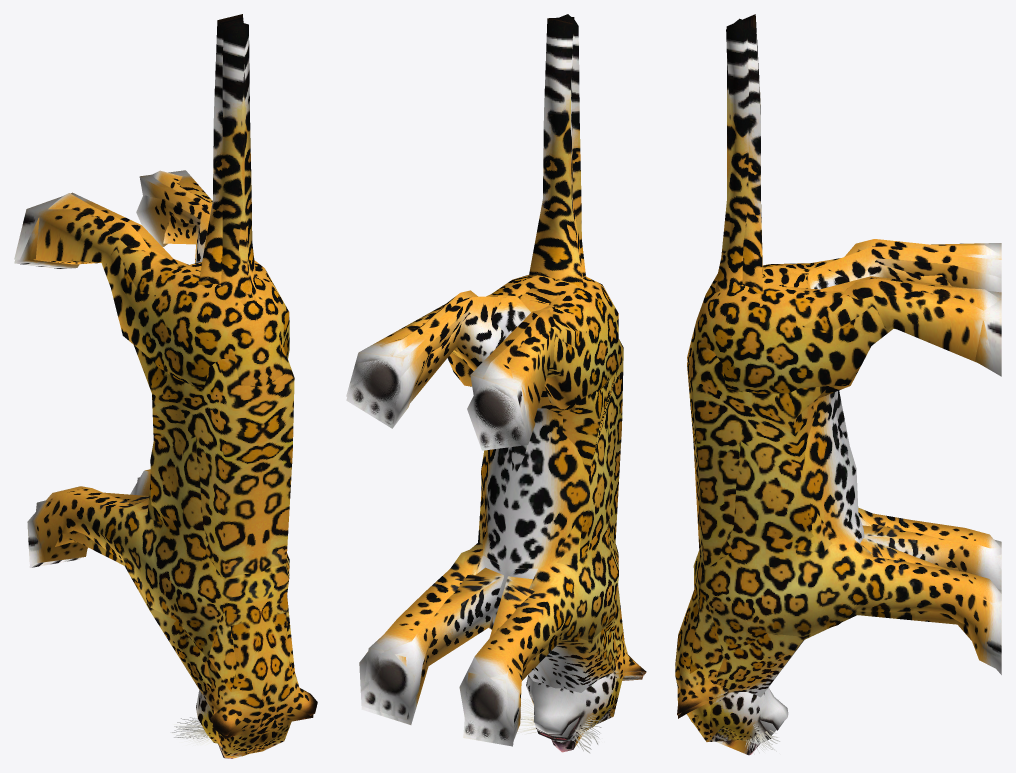
The model's file is JaguarAdult.obj.
The picture shows the model from 3 angles, left to right: view 1: azimuth 30°, elevation 25°; view 2: azimuth 150°, elevation 25°; view 3: azimuth 270°, elevation 25°; orthographic projection.
Parts seen in each view (by area): view 1: Jaguar_Adult_M_LOD0:1, Editable Mesh, Jaguar_Adult_M_LOD0:2; view 2: Jaguar_Adult_M_LOD0:1, Editable Mesh, Jaguar_Adult_M_LOD0:2; view 3: Jaguar_Adult_M_LOD0:1, Editable Mesh.
Boxes of the visible parts, x1,y1,x2,y2 form: Jaguar_Adult_M_LOD0:1: [14, 21, 317, 752]; Editable Mesh: [14, 14, 313, 758]; Jaguar_Adult_M_LOD0:2: [171, 717, 212, 746]; Jaguar_Adult_M_LOD0:1: [346, 14, 646, 742]; Editable Mesh: [346, 17, 643, 752]; Jaguar_Adult_M_LOD0:2: [516, 698, 602, 753]; Jaguar_Adult_M_LOD0:1: [675, 18, 1001, 743]; Editable Mesh: [677, 14, 1001, 755].
Size of what is drawn, in the model's own units: 1.04 by 4.01 by 1.61.
Materials: 4 (4 with a texture image).
